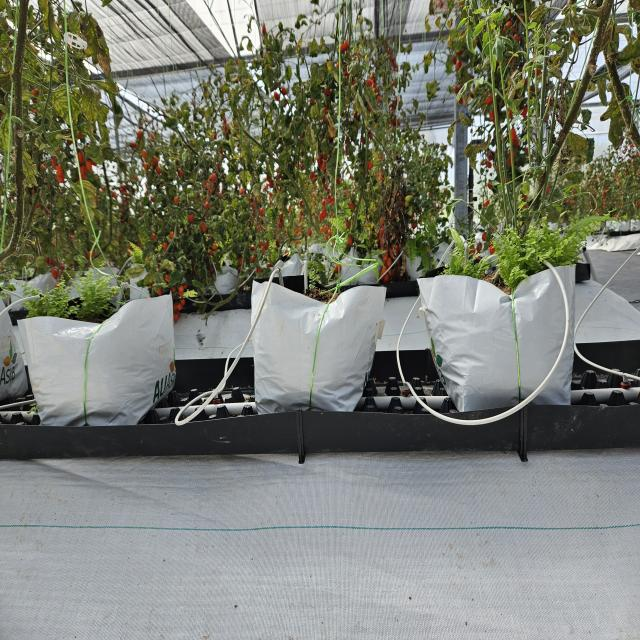Obstacle: (183, 270, 272, 430), (511, 262, 573, 411)
Soilbag: (27, 288, 173, 427), (430, 269, 570, 404), (253, 273, 374, 408)
plant: (449, 3, 572, 264), (34, 15, 130, 289), (274, 7, 362, 272)
